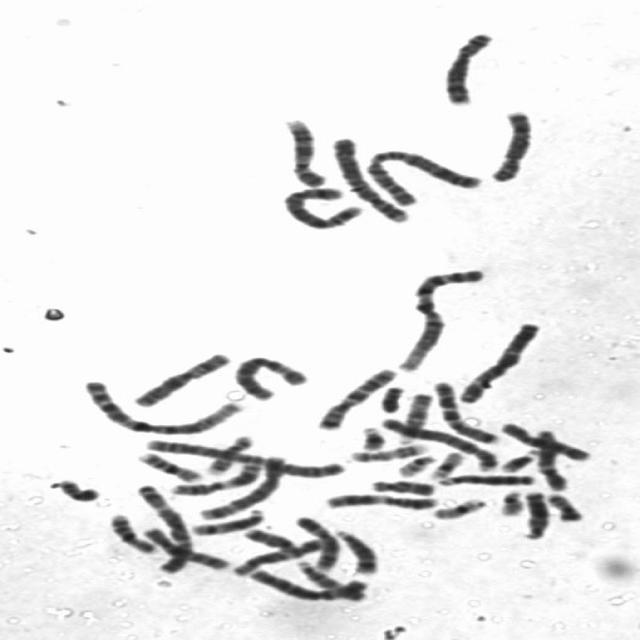A1: (389, 264, 489, 373), (75, 376, 246, 436)
A2: (140, 435, 349, 479), (359, 146, 486, 207)
A3: (452, 318, 544, 405), (131, 480, 197, 575)
B4: (326, 133, 416, 225), (372, 413, 500, 472)
B5: (194, 452, 290, 521), (277, 183, 368, 231)
C10: (137, 524, 233, 572), (496, 418, 595, 462)
C11: (167, 459, 265, 497), (318, 490, 442, 511)
C12: (226, 536, 327, 578), (530, 426, 572, 491)
C6: (242, 564, 373, 602), (228, 352, 312, 402)
C7: (312, 364, 401, 431), (427, 377, 503, 445)
C8: (437, 28, 499, 107), (486, 106, 538, 184)
C9: (278, 115, 328, 188), (290, 512, 341, 572)
D13: (432, 470, 538, 488), (517, 487, 552, 541)
D14: (184, 504, 268, 537), (328, 526, 382, 576)
D15: (291, 557, 370, 603), (390, 389, 436, 445)
E16: (130, 448, 206, 484), (103, 510, 158, 555)
E17: (201, 432, 256, 476), (344, 440, 432, 463)
E18: (238, 524, 298, 552), (365, 476, 438, 497)
F19: (427, 494, 489, 520), (424, 448, 467, 480)
F20: (540, 489, 586, 523), (50, 475, 103, 503)
G21: (496, 446, 542, 473), (354, 422, 389, 452)
G22: (392, 451, 439, 478), (493, 486, 528, 517)
X: (127, 349, 233, 408)
Y: (374, 382, 408, 414)
